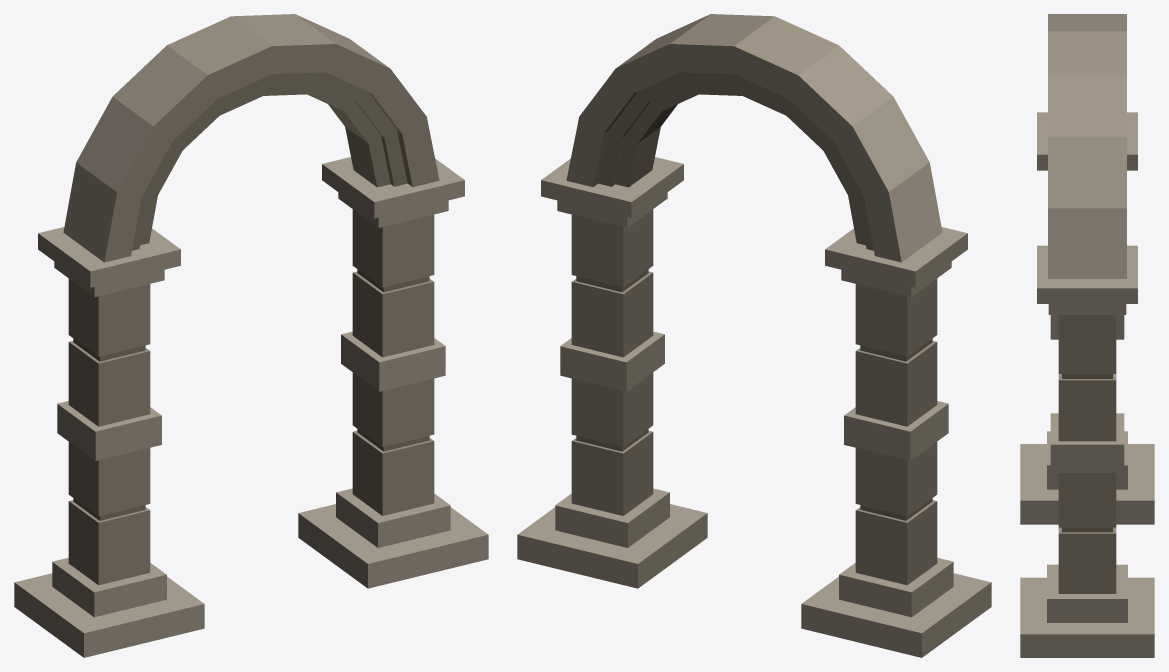
Rendered from SF_Prop_Archway_01.fbx.
3 renders of one model, left to right at view 1: azimuth 30°, elevation 25°; view 2: azimuth 150°, elevation 25°; view 3: azimuth 270°, elevation 25°, orthographic. The views are drawn at different scales.
Parts seen in each view (by area): view 1: SF_Prop_Archway_01; view 2: SF_Prop_Archway_01; view 3: SF_Prop_Archway_01.
Boxes of the visible parts, x1,y1,x2,y2 form: SF_Prop_Archway_01: [14, 14, 488, 657]; SF_Prop_Archway_01: [517, 14, 991, 657]; SF_Prop_Archway_01: [1020, 14, 1154, 657].
Size of the model in its own units: 5.56 by 7.25 by 1.66.
